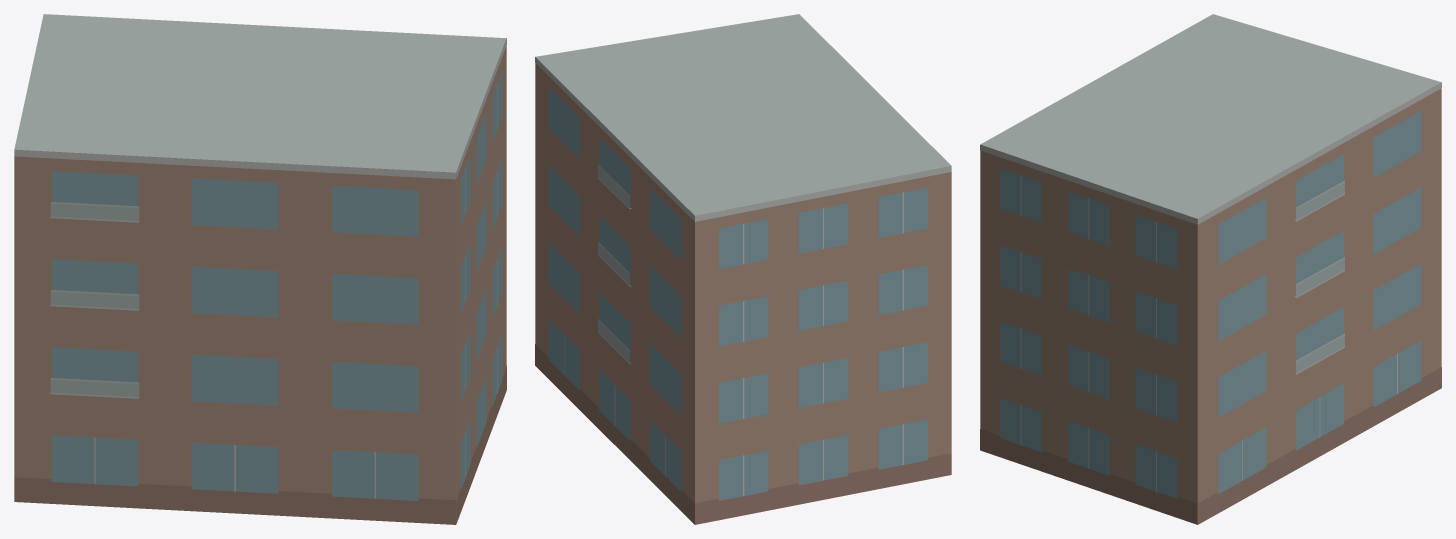
Rendered from survey-upis-32989999.glb.
3 renders of one model, left to right at view 1: azimuth 30°, elevation 25°; view 2: azimuth 150°, elevation 25°; view 3: azimuth 270°, elevation 25°, orthographic. The views are drawn at different scales.
Visible parts, largest first — view 1: survey-upis-32989999.tmp; view 2: survey-upis-32989999.tmp; view 3: survey-upis-32989999.tmp.
Part boxes in pixels (<box>): survey-upis-32989999.tmp: <box>14,14,506,524</box>; survey-upis-32989999.tmp: <box>535,14,951,524</box>; survey-upis-32989999.tmp: <box>980,14,1441,524</box>.
Bounding box in the file's own units: 18.26 × 12.7 × 17.37.
